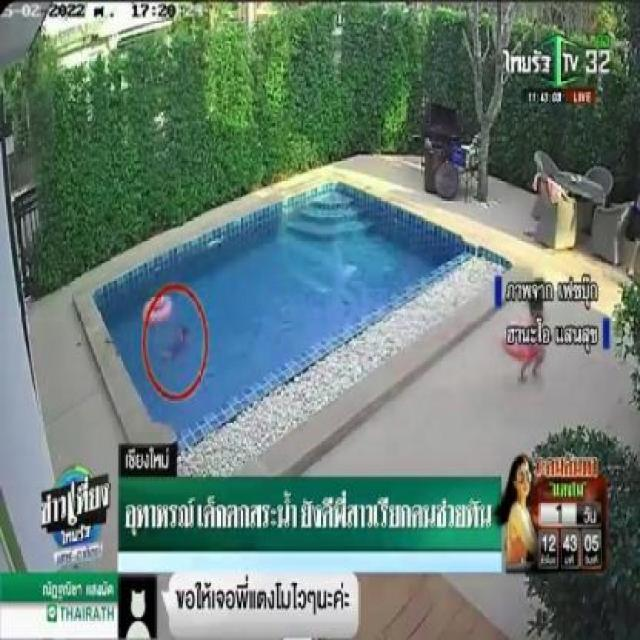drowning: (155, 324, 196, 376)
